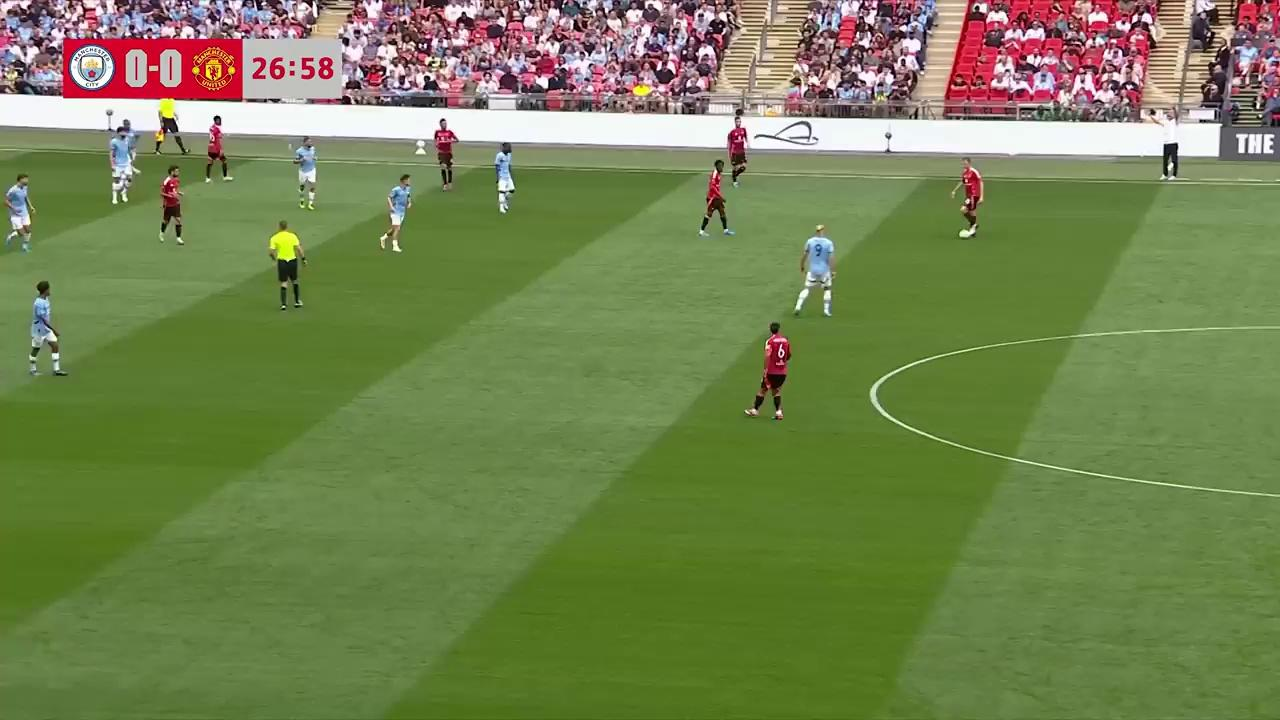ball: (956, 225, 971, 240)
player: (744, 320, 792, 421), (794, 224, 836, 318), (28, 280, 67, 377), (699, 160, 736, 237), (950, 158, 983, 238), (379, 174, 412, 253), (4, 173, 35, 253), (158, 166, 185, 246), (204, 115, 233, 183), (109, 134, 136, 204), (292, 136, 317, 210), (434, 122, 456, 190), (494, 144, 514, 214), (112, 114, 139, 164), (727, 126, 748, 187)
referee: (266, 219, 307, 311), (153, 94, 189, 155)
